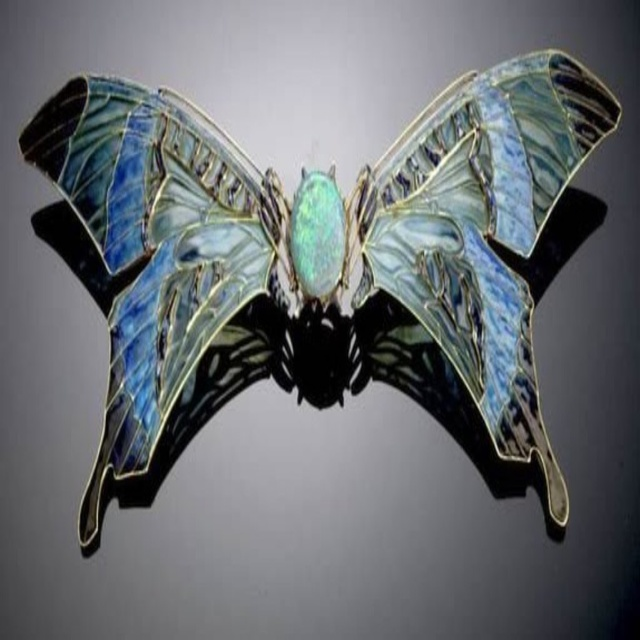Butterfly: (17, 48, 622, 547)
